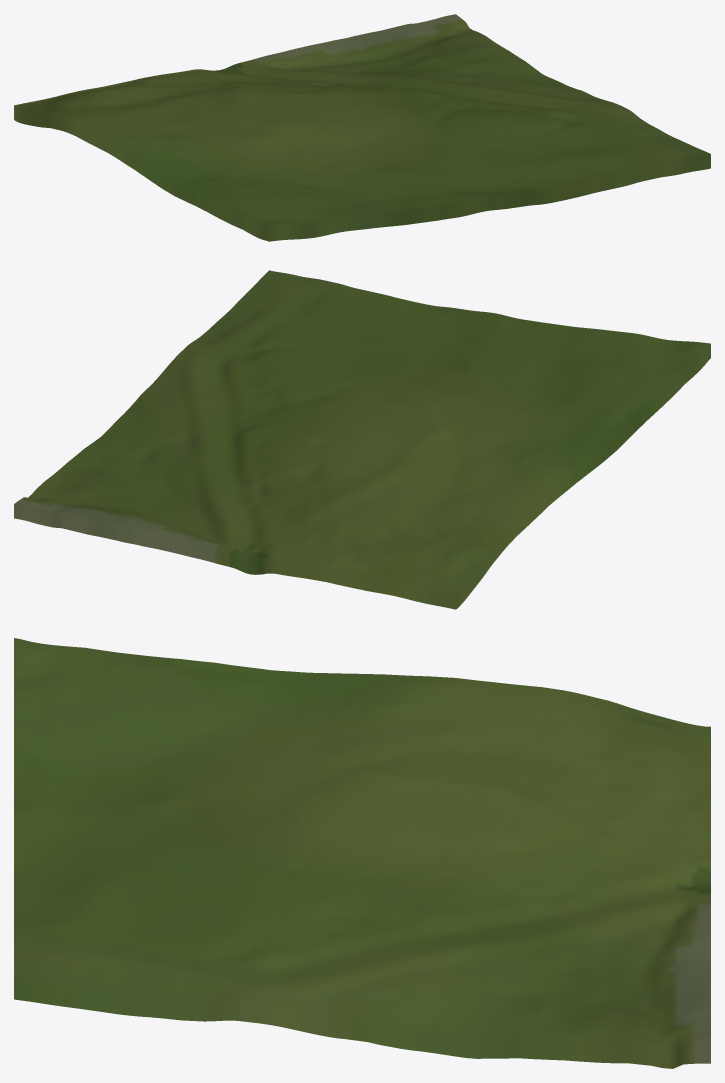
The model's file is terrain_9_-11.glb.
3 views of the same model, one above another, from view 1: azimuth 30°, elevation 25°; view 2: azimuth 150°, elevation 25°; view 3: azimuth 270°, elevation 25° (orthographic). The views are drawn at different scales.
Visible parts, largest first — view 1: terrain_9_-11; view 2: terrain_9_-11; view 3: terrain_9_-11.
Boxes of the visible parts, x1,y1,x2,y2 form: terrain_9_-11: (14,14,710,241); terrain_9_-11: (14,270,710,609); terrain_9_-11: (14,638,710,1068).
Size of the model in its own units: 256 by 55.27 by 256.
